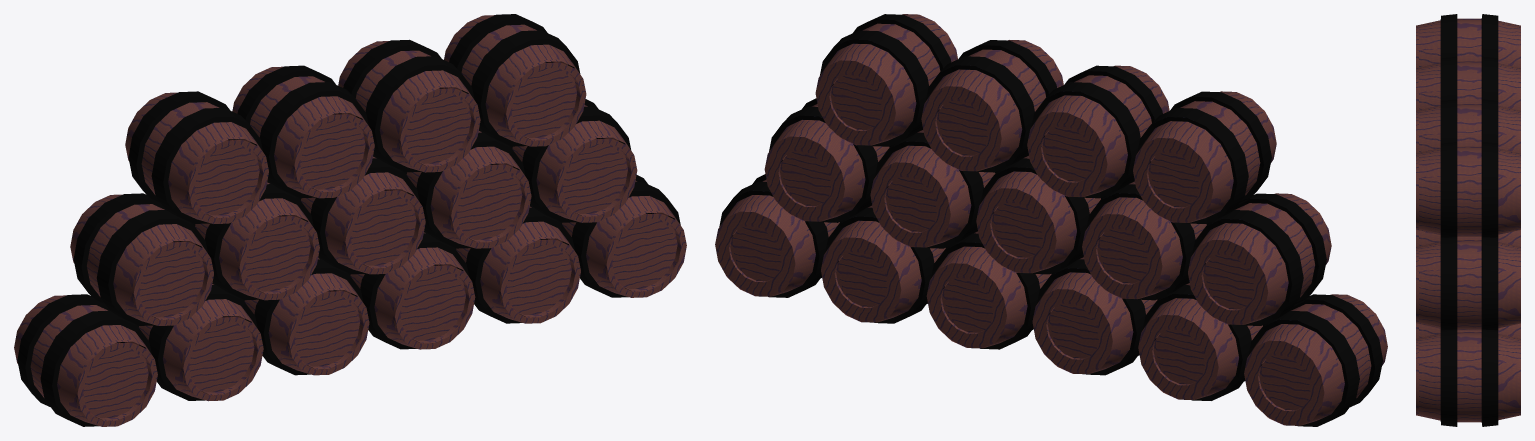
Rendered from BarrelGroup.fbx.
3 renders of one model, left to right at view 1: azimuth 30°, elevation 25°; view 2: azimuth 150°, elevation 25°; view 3: azimuth 270°, elevation 25°, orthographic. The views are drawn at different scales.
Visible parts, largest first — view 1: Circle.003; view 2: Circle.003; view 3: Circle.003.
Boxes of the visible parts, x1=… form: Circle.003: x1=14, y1=14, x2=686, y2=426; Circle.003: x1=715, y1=14, x2=1387, y2=426; Circle.003: x1=1416, y1=14, x2=1520, y2=426.
Bounding box in the file's own units: 3.38 × 0.5863 × 1.45.
Materials: 2 (2 with a texture image).
